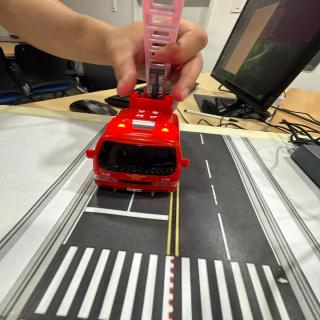Fire_truck: (86, 92, 189, 191)
